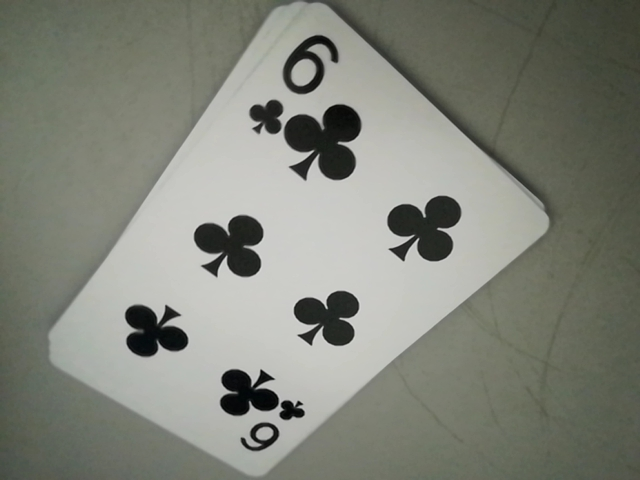mh 6: (251, 22, 354, 142), (227, 394, 311, 460)
